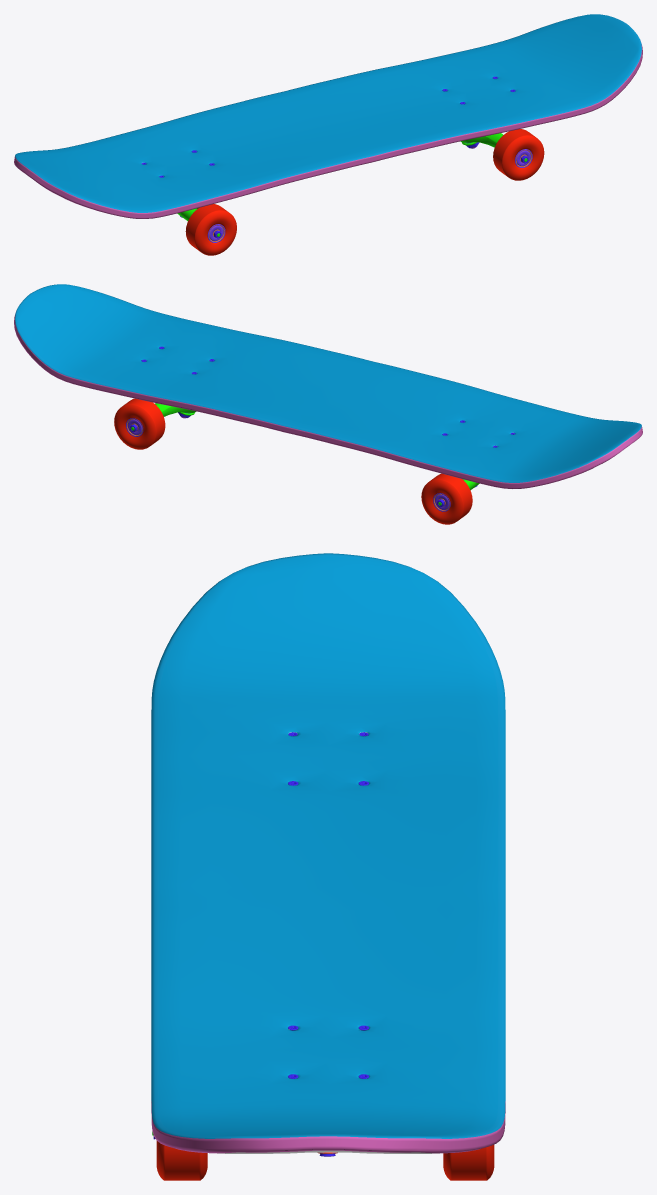
Rendered from skateboard.fbx.
The picture shows the model from 3 angles, top to bottom: view 1: azimuth 30°, elevation 25°; view 2: azimuth 150°, elevation 25°; view 3: azimuth 270°, elevation 25°; orthographic projection. The views are drawn at different scales.
Parts seen in each view (by area): view 1: Board_high, Wheels_high, Trucks_high; view 2: Board_high, Wheels_high, Trucks_high; view 3: Board_high, Wheels_high.
Boxes of the visible parts, <box> form: Board_high: <box>14,14,642,218</box>; Wheels_high: <box>185,129,544,255</box>; Trucks_high: <box>177,133,527,236</box>; Board_high: <box>14,284,642,488</box>; Wheels_high: <box>114,398,472,524</box>; Trucks_high: <box>131,403,479,505</box>; Board_high: <box>151,553,505,1153</box>; Wheels_high: <box>156,1141,494,1180</box>.
Size of the model in its own units: 864 by 124 by 220.
